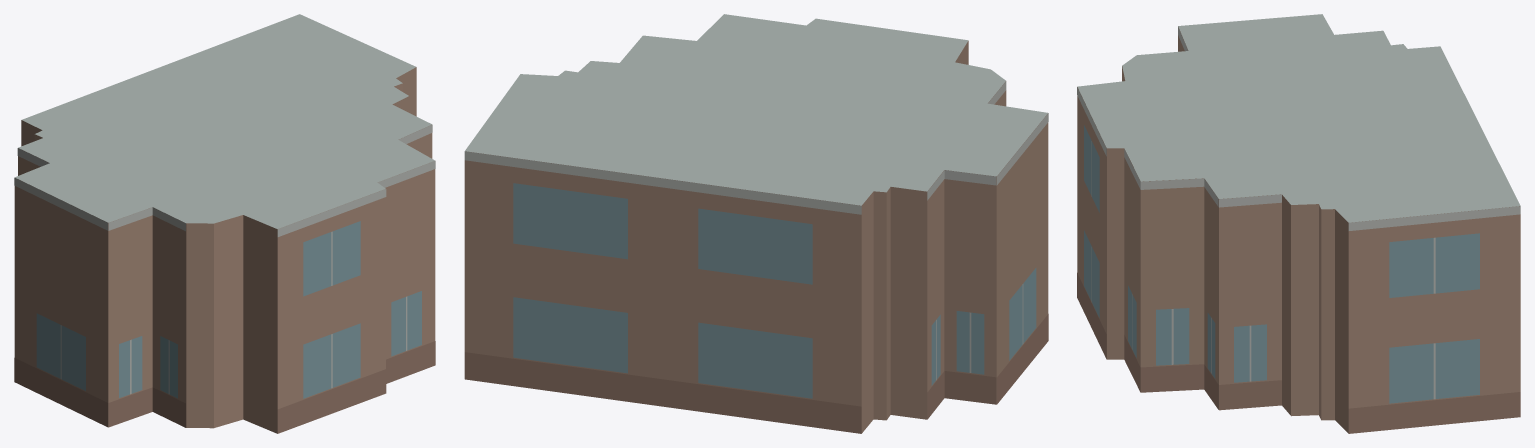
Rendered from survey-upis-32711032.glb.
3 renders of one model, left to right at view 1: azimuth 30°, elevation 25°; view 2: azimuth 150°, elevation 25°; view 3: azimuth 270°, elevation 25°, orthographic. The views are drawn at different scales.
Visible parts, largest first — view 1: survey-upis-32711032.tmp; view 2: survey-upis-32711032.tmp; view 3: survey-upis-32711032.tmp.
Part boxes in pixels (x1=…): survey-upis-32711032.tmp: x1=14, y1=14, x2=435, y2=433; survey-upis-32711032.tmp: x1=464, y1=14, x2=1048, y2=433; survey-upis-32711032.tmp: x1=1077, y1=14, x2=1520, y2=433.
Size of the model in its own units: 12.95 by 6.1 by 11.62.
